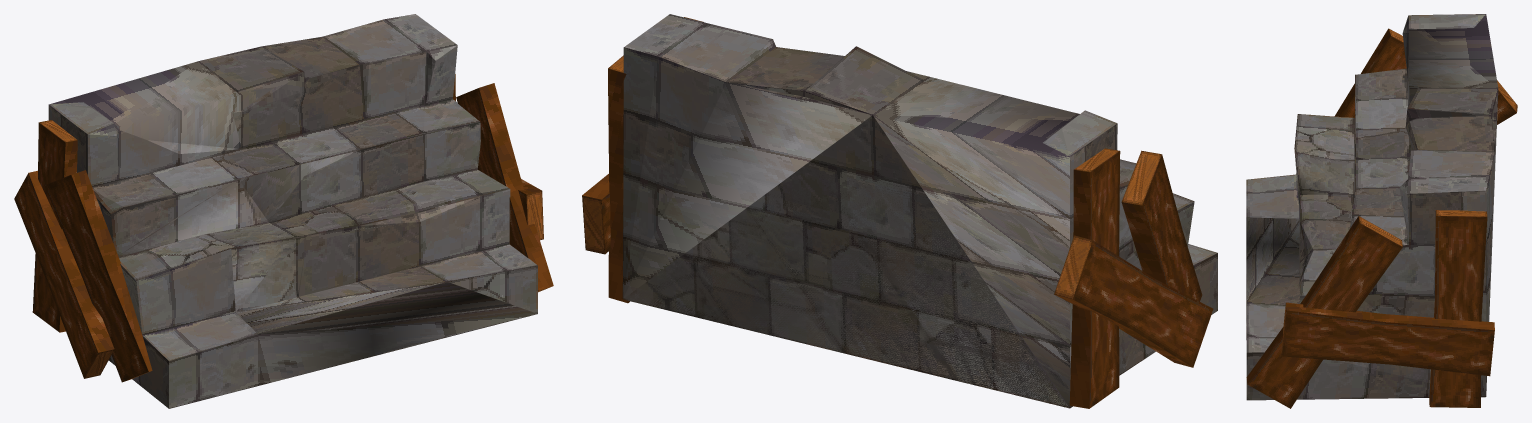
The model's file is item_castle_steps.glb.
3 renders of one model, left to right at view 1: azimuth 30°, elevation 25°; view 2: azimuth 150°, elevation 25°; view 3: azimuth 270°, elevation 25°, orthographic. The views are drawn at different scales.
Visible parts, largest first — view 1: Stairs; view 2: Stairs; view 3: Stairs.
Boxes of the visible parts, x1,y1,x2,y2 form: Stairs: (14, 14, 553, 408); Stairs: (582, 14, 1217, 408); Stairs: (1246, 14, 1517, 408).
Bounding box in the file's own units: 1.64 × 0.8187 × 0.9031.
Materials: 1 (1 with a texture image).
